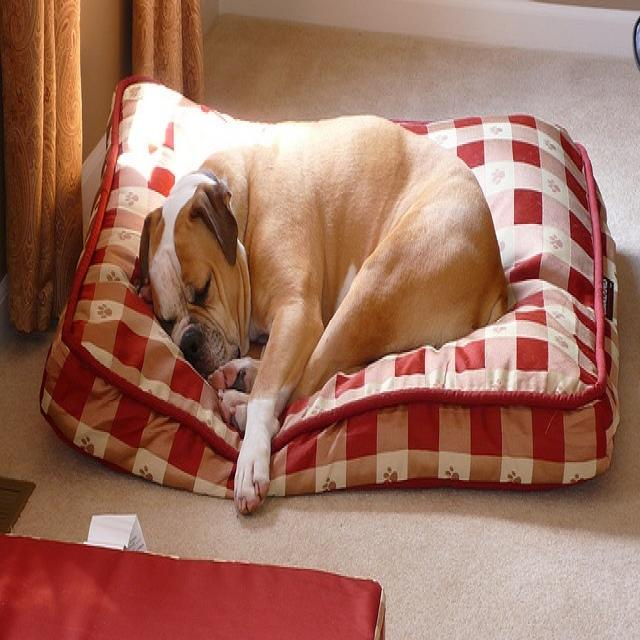dog: (138, 114, 507, 510)
